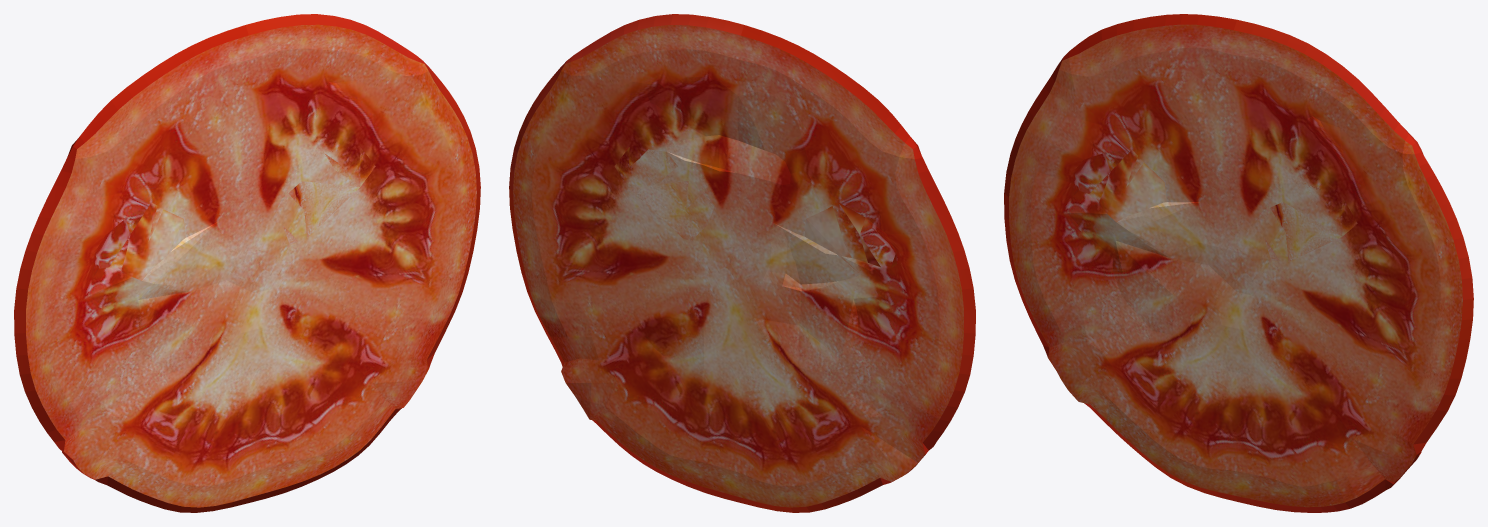
The model's file is rosie.fbx.
3 views of the same model, side by side, from view 1: azimuth 30°, elevation 25°; view 2: azimuth 150°, elevation 25°; view 3: azimuth 330°, elevation 25° (orthographic).
Parts seen in each view (by area): view 1: Cube; view 2: Cube; view 3: Cube.
Part boxes in pixels (left/top/right/bottom): Cube: left=14, top=14, right=480, bottom=512; Cube: left=509, top=14, right=975, bottom=512; Cube: left=1004, top=14, right=1473, bottom=512.
Size of the model in its own units: 446 by 438 by 23.57.
